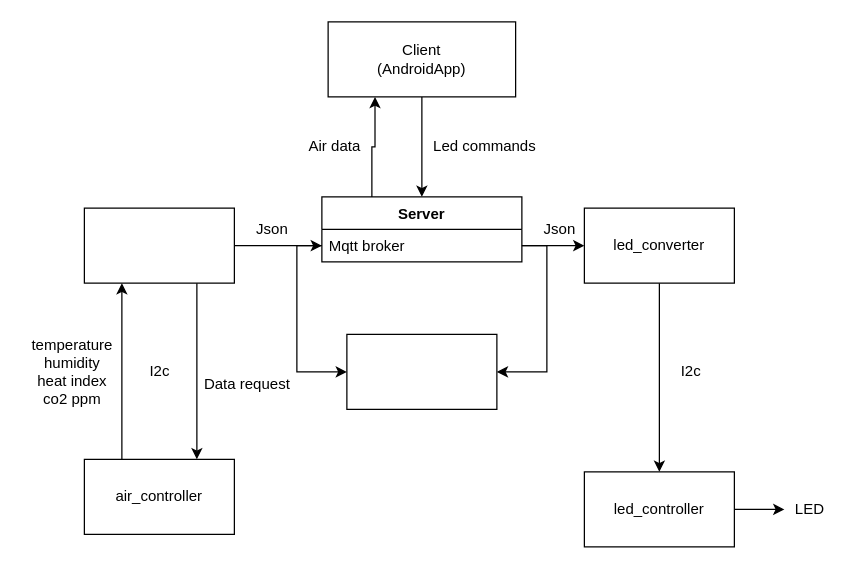
This 855x569 diagram has some shape labels left out. Each missing label, with the centre of its shape:
"air_converter" belongs at [158,245].
"storage_server" belongs at [421,371].
